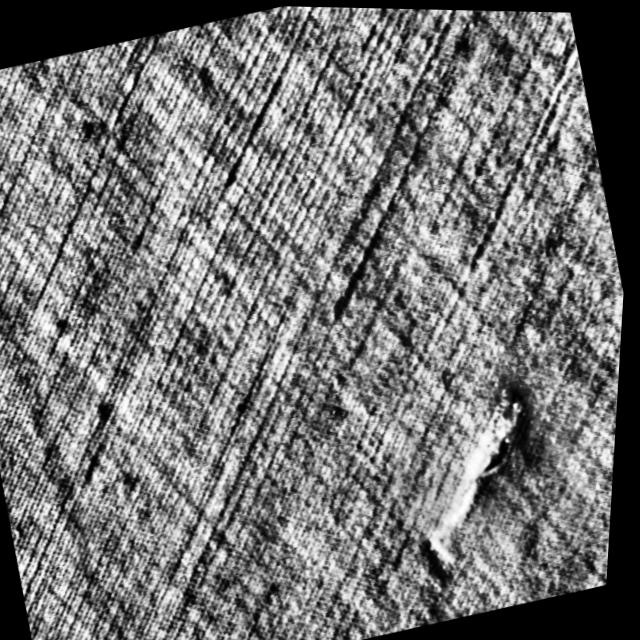Hole: (382, 366, 577, 590)
